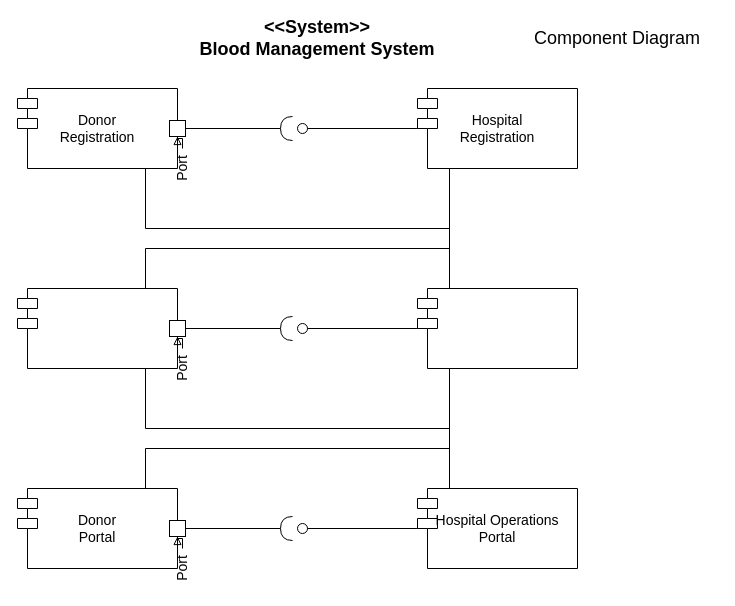
Image size: 735x606. Some labels were removed from this diagram. The centre of each missing label's shape, as x and y in pixels:
Administrative Functions: (x=497, y=328)
Blood Matcher: (x=97, y=328)
